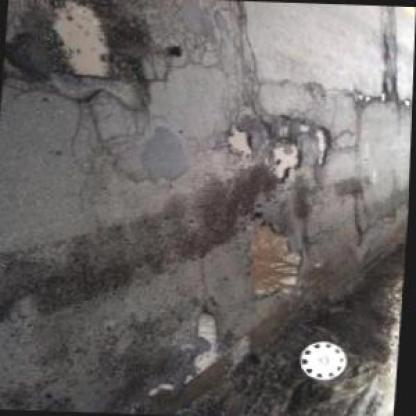pothole: (40, 0, 160, 86), (245, 223, 308, 300), (271, 144, 306, 182), (196, 311, 228, 345), (226, 126, 258, 158), (311, 128, 334, 168)
